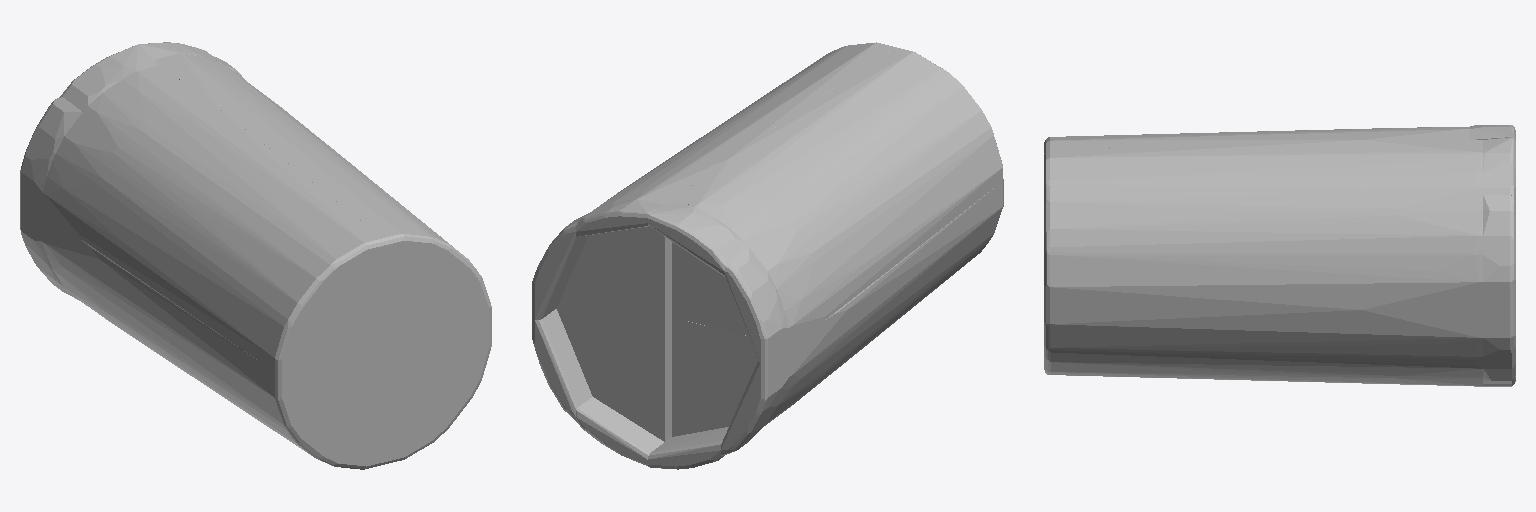
URDF robot description (root):
<robot name="root">
  <link name="link_coacd_convex_piece_0">
    <inertial>
      <origin xyz="0 0 0" rpy="0 0 0"/>
      <inertia ixx="1.13E-01" ixy="4.16E-06" ixz="1.66E-03" iyy="1.13E-01" iyz="-2.31E-06" izz="4.52E-02"/>
    </inertial>
    <visual>
      <origin xyz="0 0 0" rpy="0 0 0"/>
      <geometry>
        <mesh filename="coacd_convex_piece_0.obj" scale="1.0000E+00 1.0000E+00 1.0000E+00"/>
      </geometry>
      <material name="">
        <color rgba="7.50E-01 7.50E-01 7.50E-01 1"/>
      </material>
    </visual>
    <collision>
      <origin xyz="0 0 0" rpy="0 0 0"/>
      <geometry>
        <mesh filename="coacd_convex_piece_0.obj" scale="1.0000E+00 1.0000E+00 1.0000E+00"/>
      </geometry>
    </collision>
  </link>
  <link name="link_coacd_convex_piece_1">
    <inertial>
      <origin xyz="0 0 0" rpy="0 0 0"/>
      <inertia ixx="5.52E-02" ixy="6.90E-03" ixz="-2.06E-03" iyy="5.61E-02" iyz="1.87E-03" izz="2.27E-02"/>
    </inertial>
    <visual>
      <origin xyz="0 0 0" rpy="0 0 0"/>
      <geometry>
        <mesh filename="coacd_convex_piece_1.obj" scale="1.0000E+00 1.0000E+00 1.0000E+00"/>
      </geometry>
      <material name="">
        <color rgba="7.50E-01 7.50E-01 7.50E-01 1"/>
      </material>
    </visual>
    <collision>
      <origin xyz="0 0 0" rpy="0 0 0"/>
      <geometry>
        <mesh filename="coacd_convex_piece_1.obj" scale="1.0000E+00 1.0000E+00 1.0000E+00"/>
      </geometry>
    </collision>
  </link>
  <joint name="link_coacd_convex_piece_1_joint" type="fixed">
    <origin xyz="0 0 0" rpy="0 0 0"/>
    <parent link="link_coacd_convex_piece_0"/>
    <child link="link_coacd_convex_piece_1"/>
  </joint>
  <link name="link_coacd_convex_piece_2">
    <inertial>
      <origin xyz="0 0 0" rpy="0 0 0"/>
      <inertia ixx="4.97E-02" ixy="-6.89E-03" ixz="-1.74E-03" iyy="4.88E-02" iyz="-1.91E-03" izz="2.08E-02"/>
    </inertial>
    <visual>
      <origin xyz="0 0 0" rpy="0 0 0"/>
      <geometry>
        <mesh filename="coacd_convex_piece_2.obj" scale="1.0000E+00 1.0000E+00 1.0000E+00"/>
      </geometry>
      <material name="">
        <color rgba="7.50E-01 7.50E-01 7.50E-01 1"/>
      </material>
    </visual>
    <collision>
      <origin xyz="0 0 0" rpy="0 0 0"/>
      <geometry>
        <mesh filename="coacd_convex_piece_2.obj" scale="1.0000E+00 1.0000E+00 1.0000E+00"/>
      </geometry>
    </collision>
  </link>
  <joint name="link_coacd_convex_piece_2_joint" type="fixed">
    <origin xyz="0 0 0" rpy="0 0 0"/>
    <parent link="link_coacd_convex_piece_1"/>
    <child link="link_coacd_convex_piece_2"/>
  </joint>
  <link name="link_coacd_convex_piece_3">
    <inertial>
      <origin xyz="0 0 0" rpy="0 0 0"/>
      <inertia ixx="1.64E-03" ixy="-1.74E-04" ixz="-7.39E-04" iyy="1.88E-03" iyz="-3.79E-04" izz="4.74E-04"/>
    </inertial>
    <visual>
      <origin xyz="0 0 0" rpy="0 0 0"/>
      <geometry>
        <mesh filename="coacd_convex_piece_3.obj" scale="1.0000E+00 1.0000E+00 1.0000E+00"/>
      </geometry>
      <material name="">
        <color rgba="7.50E-01 7.50E-01 7.50E-01 1"/>
      </material>
    </visual>
    <collision>
      <origin xyz="0 0 0" rpy="0 0 0"/>
      <geometry>
        <mesh filename="coacd_convex_piece_3.obj" scale="1.0000E+00 1.0000E+00 1.0000E+00"/>
      </geometry>
    </collision>
  </link>
  <joint name="link_coacd_convex_piece_3_joint" type="fixed">
    <origin xyz="0 0 0" rpy="0 0 0"/>
    <parent link="link_coacd_convex_piece_2"/>
    <child link="link_coacd_convex_piece_3"/>
  </joint>
  <link name="link_coacd_convex_piece_4">
    <inertial>
      <origin xyz="0 0 0" rpy="0 0 0"/>
      <inertia ixx="1.54E-03" ixy="-1.12E-04" ixz="-2.26E-04" iyy="1.27E-03" iyz="-6.26E-04" izz="3.77E-04"/>
    </inertial>
    <visual>
      <origin xyz="0 0 0" rpy="0 0 0"/>
      <geometry>
        <mesh filename="coacd_convex_piece_4.obj" scale="1.0000E+00 1.0000E+00 1.0000E+00"/>
      </geometry>
      <material name="">
        <color rgba="7.50E-01 7.50E-01 7.50E-01 1"/>
      </material>
    </visual>
    <collision>
      <origin xyz="0 0 0" rpy="0 0 0"/>
      <geometry>
        <mesh filename="coacd_convex_piece_4.obj" scale="1.0000E+00 1.0000E+00 1.0000E+00"/>
      </geometry>
    </collision>
  </link>
  <joint name="link_coacd_convex_piece_4_joint" type="fixed">
    <origin xyz="0 0 0" rpy="0 0 0"/>
    <parent link="link_coacd_convex_piece_3"/>
    <child link="link_coacd_convex_piece_4"/>
  </joint>
  <link name="link_coacd_convex_piece_5">
    <inertial>
      <origin xyz="0 0 0" rpy="0 0 0"/>
      <inertia ixx="1.96E-03" ixy="1.87E-04" ixz="-8.98E-04" iyy="2.28E-03" iyz="4.08E-04" izz="5.61E-04"/>
    </inertial>
    <visual>
      <origin xyz="0 0 0" rpy="0 0 0"/>
      <geometry>
        <mesh filename="coacd_convex_piece_5.obj" scale="1.0000E+00 1.0000E+00 1.0000E+00"/>
      </geometry>
      <material name="">
        <color rgba="7.50E-01 7.50E-01 7.50E-01 1"/>
      </material>
    </visual>
    <collision>
      <origin xyz="0 0 0" rpy="0 0 0"/>
      <geometry>
        <mesh filename="coacd_convex_piece_5.obj" scale="1.0000E+00 1.0000E+00 1.0000E+00"/>
      </geometry>
    </collision>
  </link>
  <joint name="link_coacd_convex_piece_5_joint" type="fixed">
    <origin xyz="0 0 0" rpy="0 0 0"/>
    <parent link="link_coacd_convex_piece_4"/>
    <child link="link_coacd_convex_piece_5"/>
  </joint>
  <link name="link_coacd_convex_piece_6">
    <inertial>
      <origin xyz="0 0 0" rpy="0 0 0"/>
      <inertia ixx="1.55E-03" ixy="1.13E-04" ixz="-2.28E-04" iyy="1.28E-03" iyz="6.32E-04" izz="3.81E-04"/>
    </inertial>
    <visual>
      <origin xyz="0 0 0" rpy="0 0 0"/>
      <geometry>
        <mesh filename="coacd_convex_piece_6.obj" scale="1.0000E+00 1.0000E+00 1.0000E+00"/>
      </geometry>
      <material name="">
        <color rgba="7.50E-01 7.50E-01 7.50E-01 1"/>
      </material>
    </visual>
    <collision>
      <origin xyz="0 0 0" rpy="0 0 0"/>
      <geometry>
        <mesh filename="coacd_convex_piece_6.obj" scale="1.0000E+00 1.0000E+00 1.0000E+00"/>
      </geometry>
    </collision>
  </link>
  <joint name="link_coacd_convex_piece_6_joint" type="fixed">
    <origin xyz="0 0 0" rpy="0 0 0"/>
    <parent link="link_coacd_convex_piece_5"/>
    <child link="link_coacd_convex_piece_6"/>
  </joint>
  <link name="link_coacd_convex_piece_7">
    <inertial>
      <origin xyz="0 0 0" rpy="0 0 0"/>
      <inertia ixx="2.21E-03" ixy="1.71E-04" ixz="3.39E-04" iyy="1.81E-03" iyz="-9.10E-04" izz="5.65E-04"/>
    </inertial>
    <visual>
      <origin xyz="0 0 0" rpy="0 0 0"/>
      <geometry>
        <mesh filename="coacd_convex_piece_7.obj" scale="1.0000E+00 1.0000E+00 1.0000E+00"/>
      </geometry>
      <material name="">
        <color rgba="7.50E-01 7.50E-01 7.50E-01 1"/>
      </material>
    </visual>
    <collision>
      <origin xyz="0 0 0" rpy="0 0 0"/>
      <geometry>
        <mesh filename="coacd_convex_piece_7.obj" scale="1.0000E+00 1.0000E+00 1.0000E+00"/>
      </geometry>
    </collision>
  </link>
  <joint name="link_coacd_convex_piece_7_joint" type="fixed">
    <origin xyz="0 0 0" rpy="0 0 0"/>
    <parent link="link_coacd_convex_piece_6"/>
    <child link="link_coacd_convex_piece_7"/>
  </joint>
  <link name="link_coacd_convex_piece_8">
    <inertial>
      <origin xyz="0 0 0" rpy="0 0 0"/>
      <inertia ixx="2.57E-03" ixy="2.57E-04" ixz="1.21E-03" iyy="3.02E-03" iyz="-5.43E-04" izz="7.78E-04"/>
    </inertial>
    <visual>
      <origin xyz="0 0 0" rpy="0 0 0"/>
      <geometry>
        <mesh filename="coacd_convex_piece_8.obj" scale="1.0000E+00 1.0000E+00 1.0000E+00"/>
      </geometry>
      <material name="">
        <color rgba="7.50E-01 7.50E-01 7.50E-01 1"/>
      </material>
    </visual>
    <collision>
      <origin xyz="0 0 0" rpy="0 0 0"/>
      <geometry>
        <mesh filename="coacd_convex_piece_8.obj" scale="1.0000E+00 1.0000E+00 1.0000E+00"/>
      </geometry>
    </collision>
  </link>
  <joint name="link_coacd_convex_piece_8_joint" type="fixed">
    <origin xyz="0 0 0" rpy="0 0 0"/>
    <parent link="link_coacd_convex_piece_7"/>
    <child link="link_coacd_convex_piece_8"/>
  </joint>
  <link name="link_coacd_convex_piece_9">
    <inertial>
      <origin xyz="0 0 0" rpy="0 0 0"/>
      <inertia ixx="2.47E-03" ixy="-2.01E-04" ixz="4.04E-04" iyy="2.05E-03" iyz="1.01E-03" izz="6.32E-04"/>
    </inertial>
    <visual>
      <origin xyz="0 0 0" rpy="0 0 0"/>
      <geometry>
        <mesh filename="coacd_convex_piece_9.obj" scale="1.0000E+00 1.0000E+00 1.0000E+00"/>
      </geometry>
      <material name="">
        <color rgba="7.50E-01 7.50E-01 7.50E-01 1"/>
      </material>
    </visual>
    <collision>
      <origin xyz="0 0 0" rpy="0 0 0"/>
      <geometry>
        <mesh filename="coacd_convex_piece_9.obj" scale="1.0000E+00 1.0000E+00 1.0000E+00"/>
      </geometry>
    </collision>
  </link>
  <joint name="link_coacd_convex_piece_9_joint" type="fixed">
    <origin xyz="0 0 0" rpy="0 0 0"/>
    <parent link="link_coacd_convex_piece_8"/>
    <child link="link_coacd_convex_piece_9"/>
  </joint>
  <link name="link_coacd_convex_piece_10">
    <inertial>
      <origin xyz="0 0 0" rpy="0 0 0"/>
      <inertia ixx="1.96E-03" ixy="-2.17E-04" ixz="9.33E-04" iyy="2.31E-03" iyz="4.47E-04" izz="6.09E-04"/>
    </inertial>
    <visual>
      <origin xyz="0 0 0" rpy="0 0 0"/>
      <geometry>
        <mesh filename="coacd_convex_piece_10.obj" scale="1.0000E+00 1.0000E+00 1.0000E+00"/>
      </geometry>
      <material name="">
        <color rgba="7.50E-01 7.50E-01 7.50E-01 1"/>
      </material>
    </visual>
    <collision>
      <origin xyz="0 0 0" rpy="0 0 0"/>
      <geometry>
        <mesh filename="coacd_convex_piece_10.obj" scale="1.0000E+00 1.0000E+00 1.0000E+00"/>
      </geometry>
    </collision>
  </link>
  <joint name="link_coacd_convex_piece_10_joint" type="fixed">
    <origin xyz="0 0 0" rpy="0 0 0"/>
    <parent link="link_coacd_convex_piece_9"/>
    <child link="link_coacd_convex_piece_10"/>
  </joint>
</robot>

--- What the picture shows (computed from the rendered views, not written in the file) ---
3 views of the same robot in one strip: view 1: azimuth 30°, elevation 25°; view 2: azimuth 150°, elevation 25°; view 3: azimuth 270°, elevation 25° (orthographic).
Model root with 11 links and 10 joints (10 fixed), rooted at link_coacd_convex_piece_0, posed all joints at 0.
Links seen in each view (by area): view 1: link_coacd_convex_piece_2, link_coacd_convex_piece_0, link_coacd_convex_piece_1, link_coacd_convex_piece_10, link_coacd_convex_piece_9, link_coacd_convex_piece_8, link_coacd_convex_piece_6; view 2: link_coacd_convex_piece_2, link_coacd_convex_piece_0, link_coacd_convex_piece_1, link_coacd_convex_piece_10, link_coacd_convex_piece_9, link_coacd_convex_piece_3, link_coacd_convex_piece_8, link_coacd_convex_piece_5, link_coacd_convex_piece_4, link_coacd_convex_piece_7, link_coacd_convex_piece_6; view 3: link_coacd_convex_piece_0, link_coacd_convex_piece_2, link_coacd_convex_piece_5, link_coacd_convex_piece_3, link_coacd_convex_piece_6, link_coacd_convex_piece_9.
Link boxes in pixels (<box>): link_coacd_convex_piece_2: <box>42,65,385,372</box>; link_coacd_convex_piece_0: <box>155,53,491,463</box>; link_coacd_convex_piece_1: <box>42,211,385,469</box>; link_coacd_convex_piece_10: <box>20,97,82,209</box>; link_coacd_convex_piece_9: <box>60,45,158,111</box>; link_coacd_convex_piece_8: <box>20,194,81,301</box>; link_coacd_convex_piece_6: <box>137,42,218,60</box>; link_coacd_convex_piece_2: <box>672,47,1002,345</box>; link_coacd_convex_piece_0: <box>557,42,893,441</box>; link_coacd_convex_piece_1: <box>672,179,1003,436</box>; link_coacd_convex_piece_10: <box>725,248,789,362</box>; link_coacd_convex_piece_9: <box>648,201,748,276</box>; link_coacd_convex_piece_3: <box>532,309,592,421</box>; link_coacd_convex_piece_8: <box>721,347,788,455</box>; link_coacd_convex_piece_5: <box>532,213,588,319</box>; link_coacd_convex_piece_4: <box>576,397,663,466</box>; link_coacd_convex_piece_7: <box>648,427,728,469</box>; link_coacd_convex_piece_6: <box>576,199,663,236</box>; link_coacd_convex_piece_0: <box>1044,140,1482,386</box>; link_coacd_convex_piece_2: <box>1044,127,1469,153</box>; link_coacd_convex_piece_5: <box>1483,195,1515,315</box>; link_coacd_convex_piece_3: <box>1483,314,1515,383</box>; link_coacd_convex_piece_6: <box>1483,137,1515,201</box>; link_coacd_convex_piece_9: <box>1470,125,1515,139</box>.
Bounding box of the posed robot: 0.9346 × 1.72 × 0.9626 m (x, y, z).
11 mesh visuals loaded from 11 distinct referenced files (11 OBJ).
